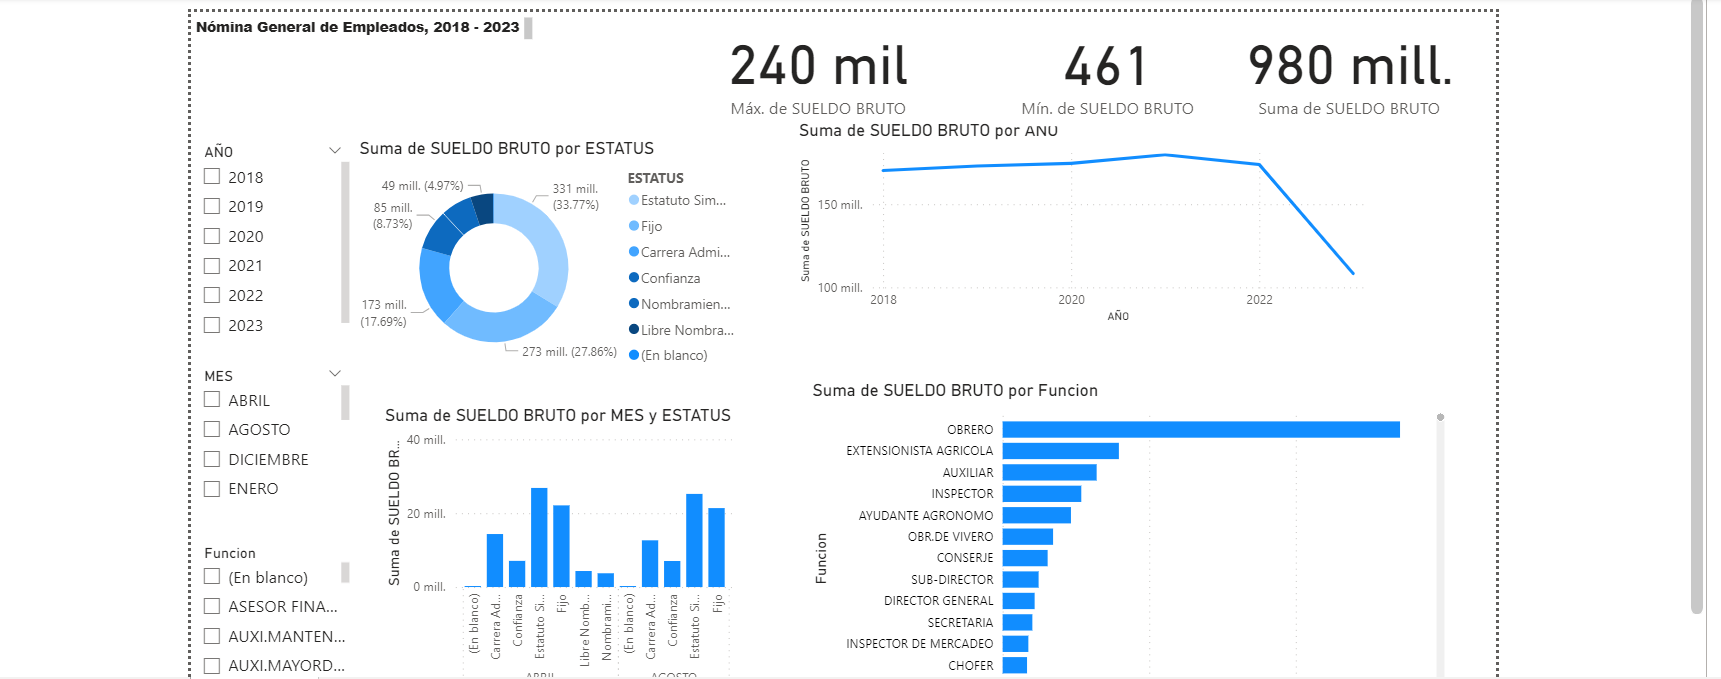

What the dashboard file says about the page in this screenshot:
{"tool":"powerbi","page":{"name":"Página 1","canvas":[1280,720],"ordinal":0},"visuals":[{"type":"donutChart","fields":{"Category":["2023-01 Nomina General Enero 20.ESTATUS"],"Y":["Sum(2023-01 Nomina General Enero 20.SUELDO BRUTO)"]},"box":[160.3,123.5,386.8,235.3],"z":0},{"type":"lineChart","fields":{"Category":["2023-01 Nomina General Enero 20.AÑO"],"Y":["Sum(2023-01 Nomina General Enero 20.SUELDO BRUTO)"]},"box":[591.2,105.9,566.2,202.9],"z":1000},{"type":"barChart","fields":{"Category":["2023-01 Nomina General Enero 20.Funcion "],"Y":["Sum(2023-01 Nomina General Enero 20.SUELDO BRUTO)"]},"box":[604.4,360.3,629.4,360.3],"z":2000},{"type":"columnChart","fields":{"Category":["2023-01 Nomina General Enero 20.MES","2023-01 Nomina General Enero 20.ESTATUS"],"Y":["Sum(2023-01 Nomina General Enero 20.SUELDO BRUTO)"]},"box":[185.3,385.3,352.9,310.3],"z":3000},{"type":"card","fields":{"Values":["Sum(2023-01 Nomina General Enero 20.SUELDO BRUTO)"]},"box":[1016.2,4.4,238.2,101.5],"z":4000},{"type":"card","fields":{"Values":["Max(2023-01 Nomina General Enero 20.SUELDO BRUTO)"]},"box":[507.4,4.4,214.7,101.5],"z":5000},{"type":"card","fields":{"Values":["Min(2023-01 Nomina General Enero 20.SUELDO BRUTO)"]},"box":[800,0,197.1,111.8],"z":6000},{"type":"slicer","fields":{"Values":["2023-01 Nomina General Enero 20.AÑO"]},"box":[0,123.5,160.3,198.5],"z":7000},{"type":"slicer","fields":{"Values":["2023-01 Nomina General Enero 20.MES"]},"box":[0,342.6,160.3,138.2],"z":8000},{"type":"slicer","fields":{"Values":["2023-01 Nomina General Enero 20.Funcion "]},"box":[0,516.2,160.3,179.4],"z":9000},{"type":"textbox","box":[0,0,339.7,44.1],"z":9001}]}

Visuals, with their boxes on the page's 1280x720 design canvas (x1, y1, x2, y2). These are canvas units, not pixel positions in the 1721x679 screenshot, which may show the page scaled, cropped or inside an application window:
donutChart - 2023-01 Nomina General Enero 20.ESTATUS x Sum(2023-01 Nomina General Enero 20.SUELDO BRUTO): x1=160, y1=124, x2=547, y2=359
lineChart - 2023-01 Nomina General Enero 20.AÑO x Sum(2023-01 Nomina General Enero 20.SUELDO BRUTO): x1=591, y1=106, x2=1157, y2=309
barChart - 2023-01 Nomina General Enero 20.Funcion  x Sum(2023-01 Nomina General Enero 20.SUELDO BRUTO): x1=604, y1=360, x2=1234, y2=721
columnChart - 2023-01 Nomina General Enero 20.MES x 2023-01 Nomina General Enero 20.ESTATUS: x1=185, y1=385, x2=538, y2=696
card - Sum(2023-01 Nomina General Enero 20.SUELDO BRUTO): x1=1016, y1=4, x2=1254, y2=106
card - Max(2023-01 Nomina General Enero 20.SUELDO BRUTO): x1=507, y1=4, x2=722, y2=106
card - Min(2023-01 Nomina General Enero 20.SUELDO BRUTO): x1=800, y1=0, x2=997, y2=112
slicer - 2023-01 Nomina General Enero 20.AÑO: x1=0, y1=124, x2=160, y2=322
slicer - 2023-01 Nomina General Enero 20.MES: x1=0, y1=343, x2=160, y2=481
slicer - 2023-01 Nomina General Enero 20.Funcion : x1=0, y1=516, x2=160, y2=696
textbox: x1=0, y1=0, x2=340, y2=44
